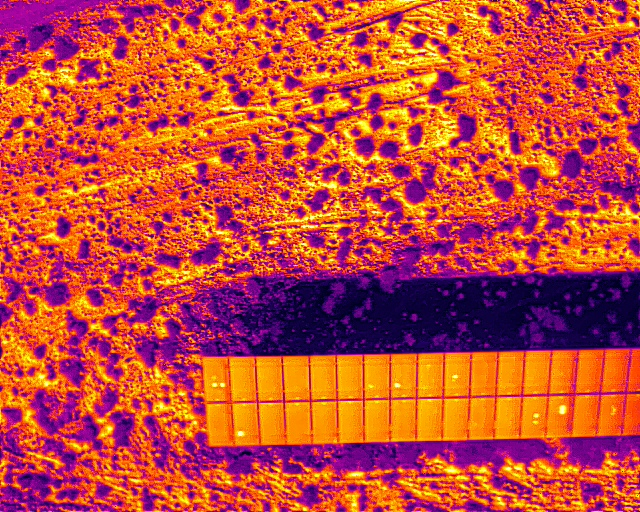multi_spot: (199, 354, 232, 405), (517, 392, 550, 440)
photovoltaic_panels: (196, 346, 638, 449)
single_spot: (594, 390, 628, 439), (387, 350, 419, 401), (229, 399, 262, 447), (414, 350, 445, 400), (441, 349, 472, 399), (543, 392, 575, 439), (361, 352, 391, 401)
